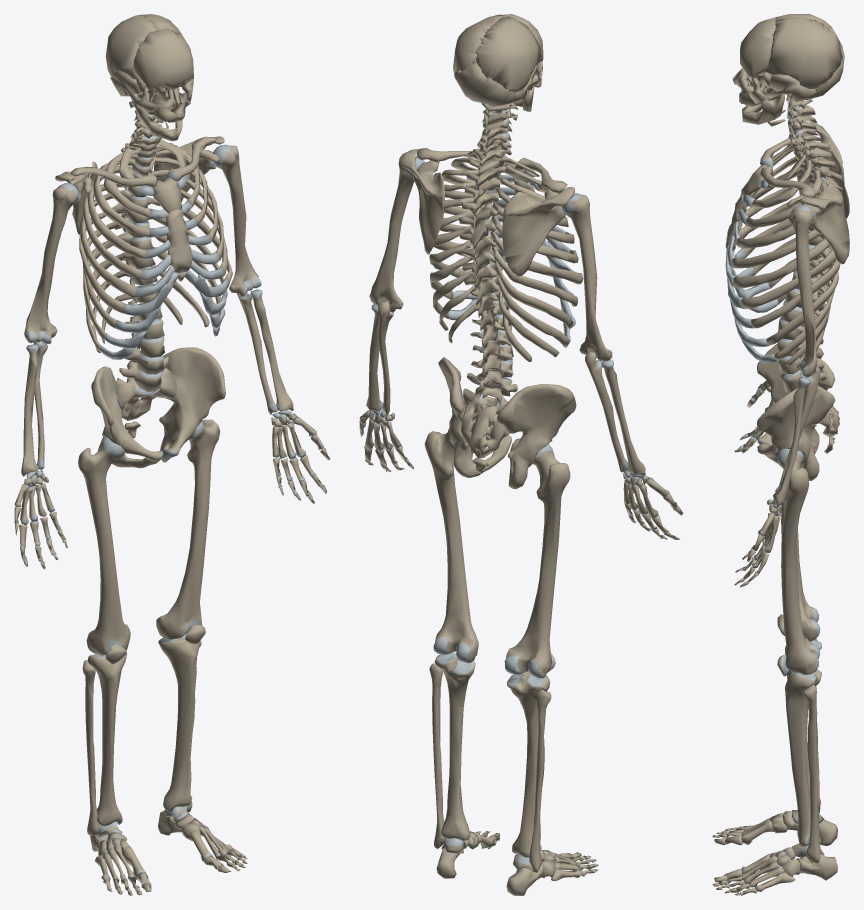
File: adult_male.skeletal.LOD4.glb
3 views of the same model, side by side, from view 1: azimuth 30°, elevation 25°; view 2: azimuth 150°, elevation 25°; view 3: azimuth 270°, elevation 25° (orthographic). The views are drawn at different scales.
Visible parts, largest first — view 1: ADULT.MALE.SKELETAL.FEMUR.R, ADULT.MALE.SKELETAL.FEMUR.L, ADULT.MALE.SKELETAL.HIP_BONE.L, ADULT.MALE.SKELETAL.TIBIA.L, ADULT.MALE.SKELETAL.FRONTAL_BONE, ADULT.MALE.SKELETAL.TIBIA.R, ADULT.MALE.SKELETAL.HUMERUS.R, ADULT.MALE.SKELETAL.HUMERUS.L, ADULT.MALE.SKELETAL.HIP_BONE.R, ADULT.MALE.SKELETAL.PARIETAL_BONE.R, ADULT.MALE.SKELETAL.SACRUM, ADULT.MALE.SKELETAL.FIBULA.R (+19 smaller); view 2: ADULT.MALE.SKELETAL.FEMUR.R, ADULT.MALE.SKELETAL.FEMUR.L, ADULT.MALE.SKELETAL.HIP_BONE.R, ADULT.MALE.SKELETAL.SCAPULA.R, ADULT.MALE.SKELETAL.PARIETAL_BONE.R, ADULT.MALE.SKELETAL.TIBIA.L, ADULT.MALE.SKELETAL.TIBIA.R, ADULT.MALE.SKELETAL.HUMERUS.R, ADULT.MALE.SKELETAL.HUMERUS.L, ADULT.MALE.SKELETAL.HIP_BONE.L, ADULT.MALE.SKELETAL.SCAPULA.L, ADULT.MALE.SKELETAL.SACRUM (+15 smaller); view 3: ADULT.MALE.SKELETAL.FEMUR.L, ADULT.MALE.SKELETAL.PARIETAL_BONE.L, ADULT.MALE.SKELETAL.HIP_BONE.L, ADULT.MALE.SKELETAL.TIBIA.L, ADULT.MALE.SKELETAL.HUMERUS.L, ADULT.MALE.SKELETAL.SCAPULA.L, ADULT.MALE.SKELETAL.FIBULA.L, ADULT.MALE.SKELETAL.FRONTAL_BONE, ADULT.MALE.SKELETAL.HIP_BONE.R, ADULT.MALE.SKELETAL.RADIUS.L, ADULT.MALE.SKELETAL.FEMUR.R, ADULT.MALE.SKELETAL.SEVENTH_RIB.L (+29 smaller).
Boxes of the visible parts, x1,y1,x2,y2 form: ADULT.MALE.SKELETAL.FEMUR.R: [78, 436, 130, 655]; ADULT.MALE.SKELETAL.FEMUR.L: [156, 419, 220, 639]; ADULT.MALE.SKELETAL.HIP_BONE.L: [159, 347, 225, 462]; ADULT.MALE.SKELETAL.TIBIA.L: [158, 633, 200, 812]; ADULT.MALE.SKELETAL.FRONTAL_BONE: [133, 28, 193, 91]; ADULT.MALE.SKELETAL.TIBIA.R: [88, 652, 127, 825]; ADULT.MALE.SKELETAL.HUMERUS.R: [24, 183, 78, 344]; ADULT.MALE.SKELETAL.HUMERUS.L: [213, 144, 261, 296]; ADULT.MALE.SKELETAL.HIP_BONE.R: [91, 366, 163, 468]; ADULT.MALE.SKELETAL.PARIETAL_BONE.R: [105, 15, 157, 79]; ADULT.MALE.SKELETAL.SACRUM: [115, 368, 176, 420]; ADULT.MALE.SKELETAL.FIBULA.R: [82, 659, 99, 835]; ADULT.MALE.SKELETAL.FEMUR.R: [504, 444, 570, 678]; ADULT.MALE.SKELETAL.FEMUR.L: [424, 428, 478, 663]; ADULT.MALE.SKELETAL.HIP_BONE.R: [497, 384, 576, 489]; ADULT.MALE.SKELETAL.SCAPULA.R: [502, 187, 574, 276]; ADULT.MALE.SKELETAL.PARIETAL_BONE.R: [476, 16, 540, 92]; ADULT.MALE.SKELETAL.TIBIA.L: [434, 652, 475, 840]; ADULT.MALE.SKELETAL.TIBIA.R: [507, 671, 550, 857]; ADULT.MALE.SKELETAL.HUMERUS.R: [562, 193, 612, 361]; ADULT.MALE.SKELETAL.HUMERUS.L: [369, 152, 424, 312]; ADULT.MALE.SKELETAL.HIP_BONE.L: [438, 357, 511, 477]; ADULT.MALE.SKELETAL.SCAPULA.L: [401, 149, 444, 254]; ADULT.MALE.SKELETAL.SACRUM: [460, 388, 509, 458]; ADULT.MALE.SKELETAL.FEMUR.L: [777, 448, 819, 674]; ADULT.MALE.SKELETAL.PARIETAL_BONE.L: [764, 17, 842, 88]; ADULT.MALE.SKELETAL.HIP_BONE.L: [757, 386, 835, 480]; ADULT.MALE.SKELETAL.TIBIA.L: [785, 669, 821, 846]; ADULT.MALE.SKELETAL.HUMERUS.L: [788, 205, 817, 377]; ADULT.MALE.SKELETAL.SCAPULA.L: [787, 183, 849, 264]; ADULT.MALE.SKELETAL.FIBULA.L: [802, 684, 820, 863]; ADULT.MALE.SKELETAL.FRONTAL_BONE: [740, 17, 776, 78]; ADULT.MALE.SKELETAL.HIP_BONE.R: [757, 343, 835, 454]; ADULT.MALE.SKELETAL.RADIUS.L: [773, 377, 810, 506]; ADULT.MALE.SKELETAL.FEMUR.R: [781, 498, 820, 641]; ADULT.MALE.SKELETAL.SEVENTH_RIB.L: [740, 249, 836, 309].
Bounding box in the file's own units: 0.6687 × 1.7 × 0.25.
